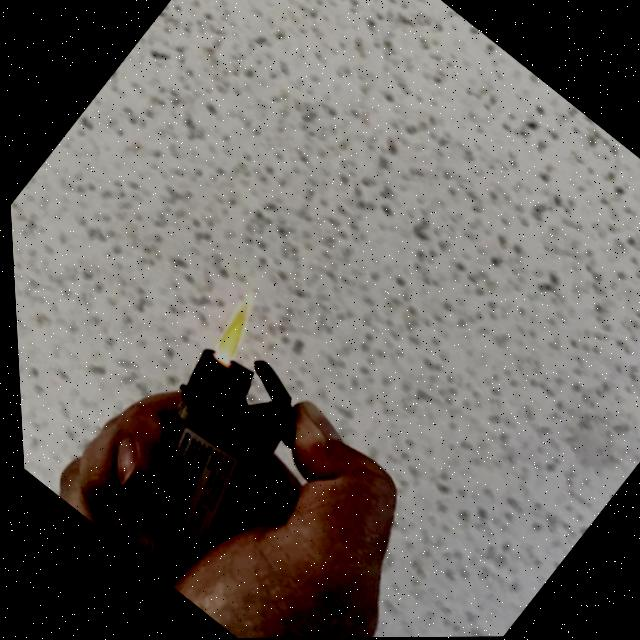Fire: (200, 288, 273, 363)
